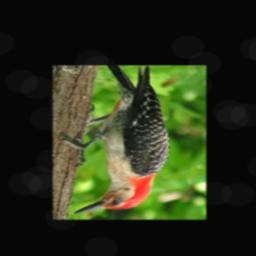Woodpecker: (57, 65, 170, 214)
